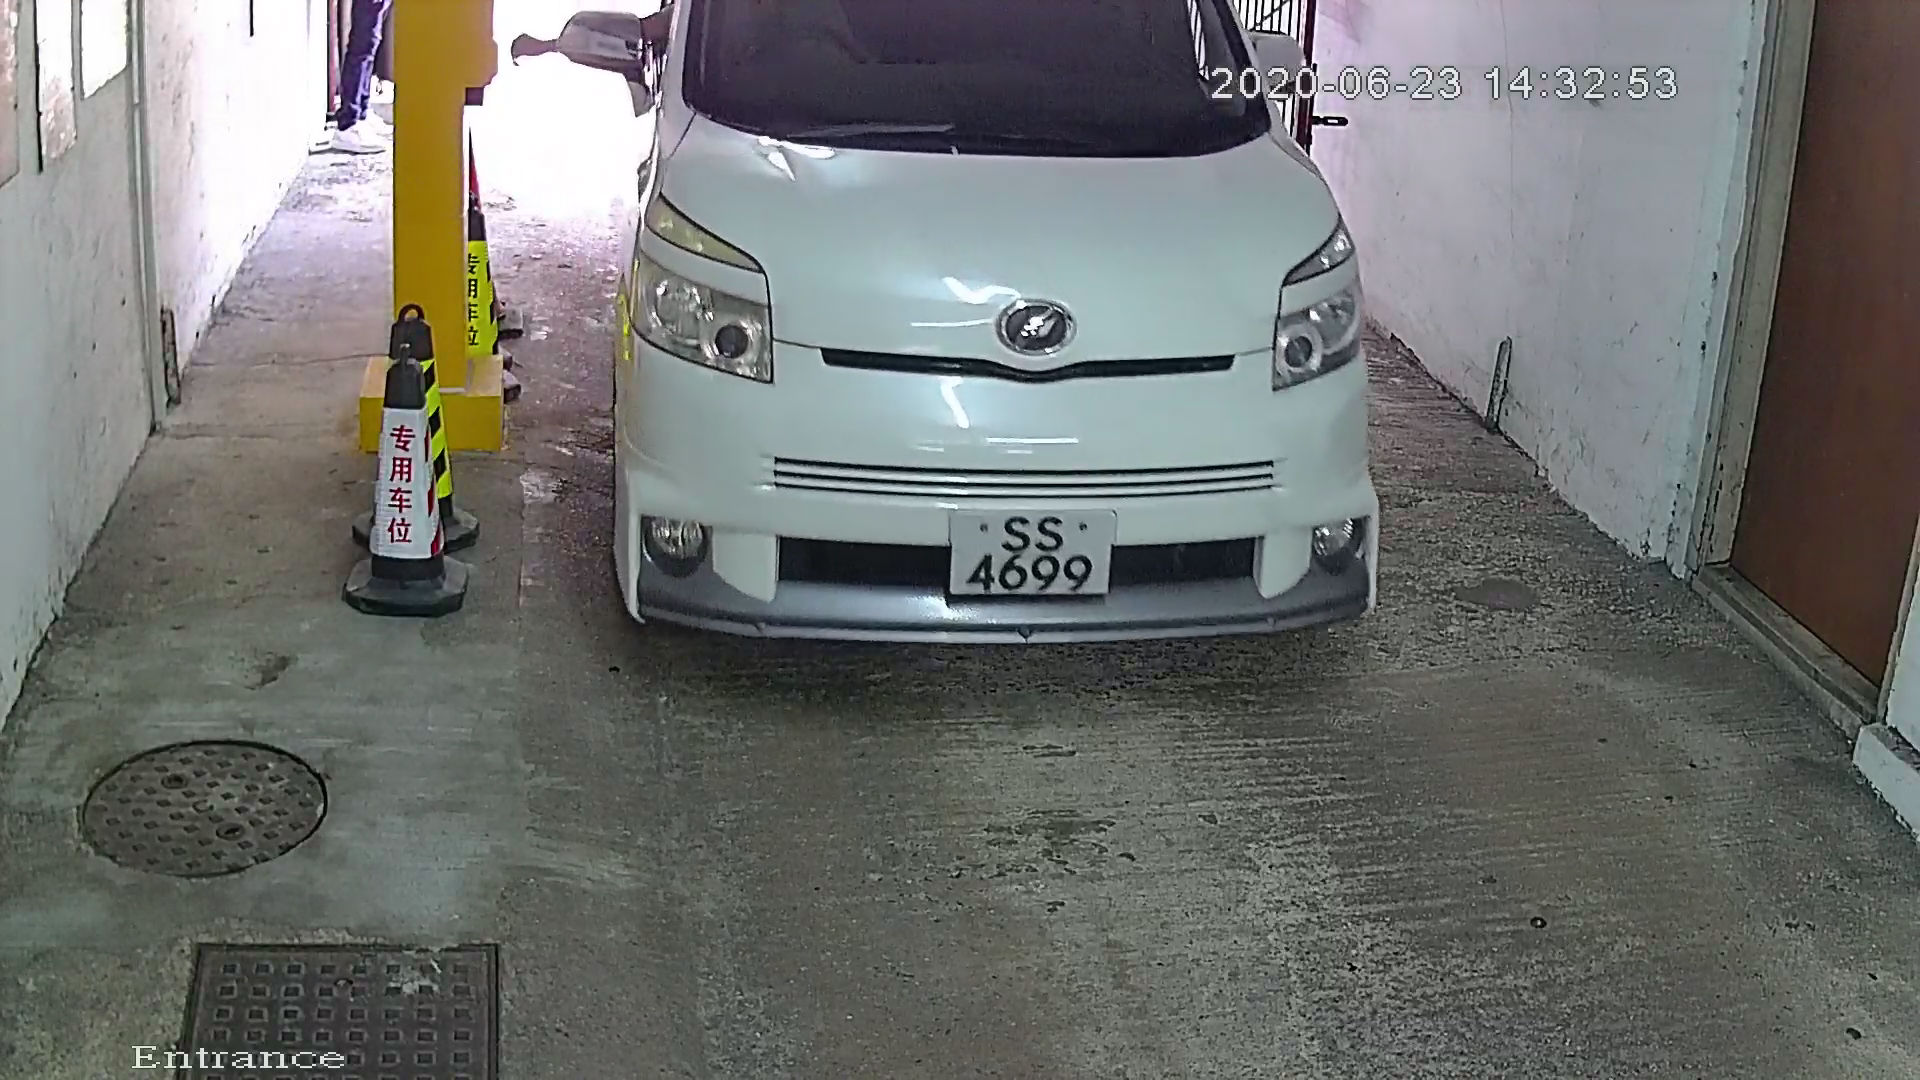privatecar: (527, 3, 1422, 702)
